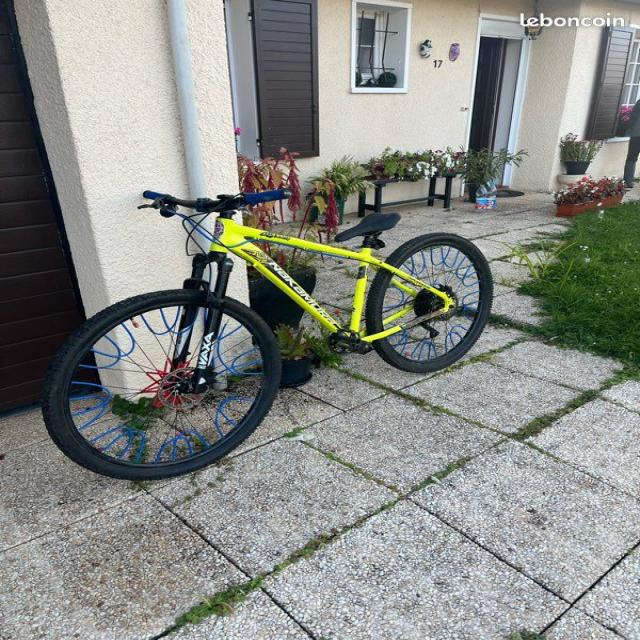Bike: (42, 191, 492, 478)
